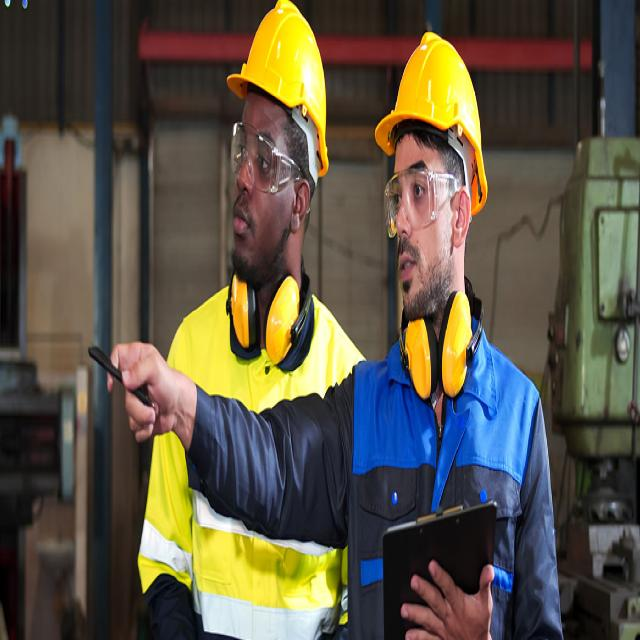goggles: (213, 119, 312, 198), (378, 158, 464, 234)
helmet: (374, 19, 491, 178), (225, 0, 339, 163)
vest: (138, 279, 358, 607), (363, 313, 565, 640)
